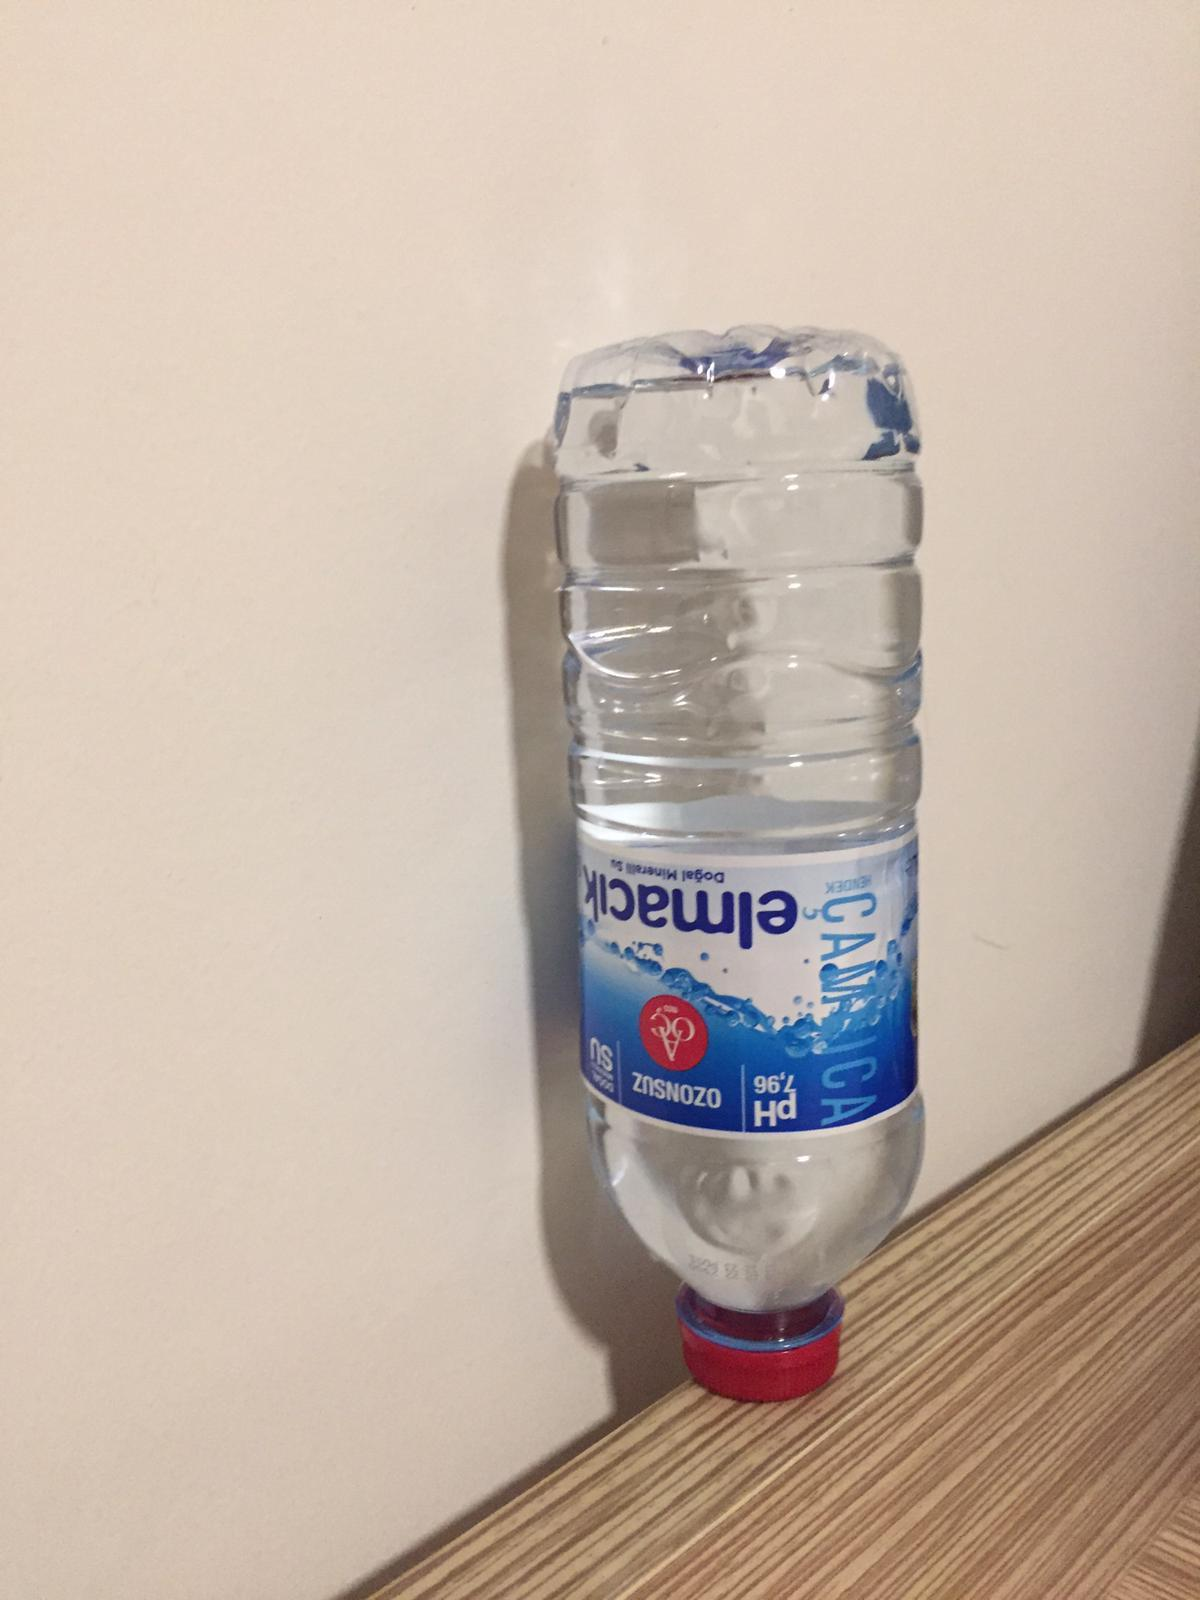bottle: (558, 317, 930, 1401)
